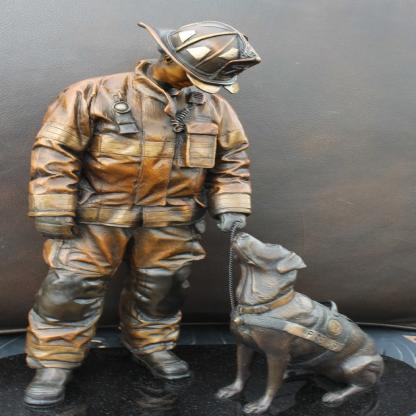Helmet: (136, 21, 264, 89)
